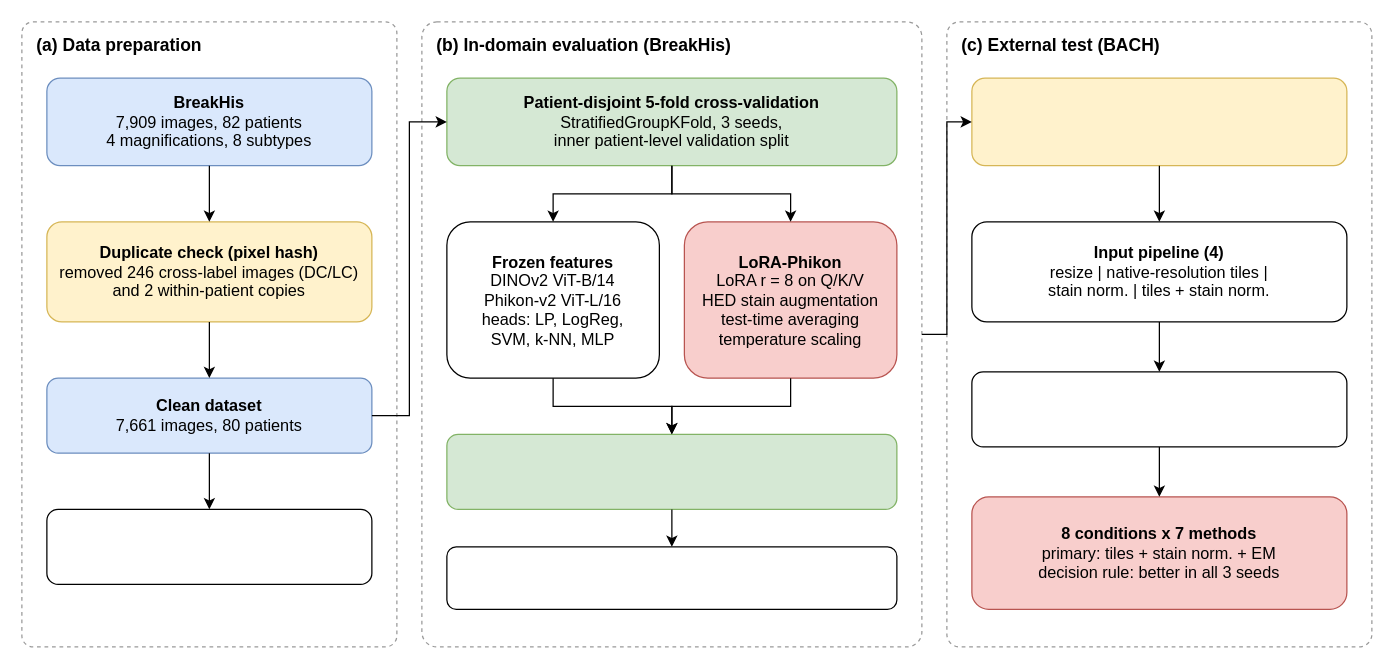
Some shapes in this 1394 by 669 pixel diagram are drawn without their labels. The centre of each missing label's shape, as x and y in pixels:
BACH (ICIAR 2018) 400 images, 4 classes mapped to binary test only, no tuning: (x=1159, y=121)
Evaluation balanced acc., AUC, F1, ECE, per-magnification: (x=671, y=471)
Post-hoc correction (2) none | EM prior-shift correction: (x=1159, y=409)
Statistics paired patient-cluster bootstrap (2,000): (x=671, y=577)
Tasks binary (benign/malignant), 8-class subtype: (x=209, y=546)
